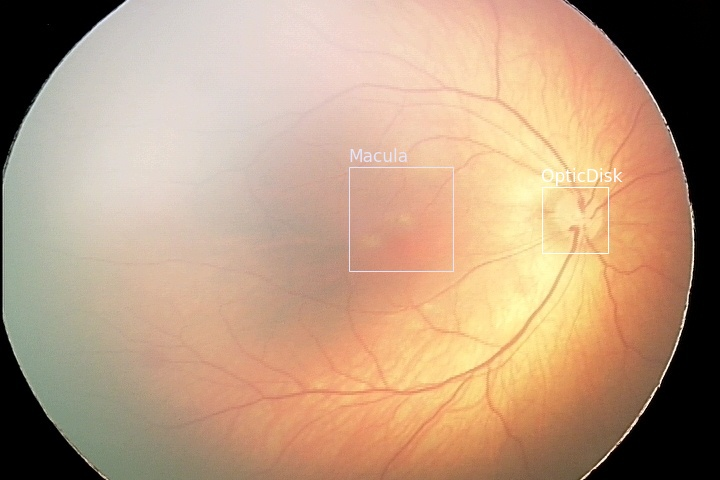Macula: (348, 166, 452, 270)
OpticDisk: (541, 186, 607, 252)
